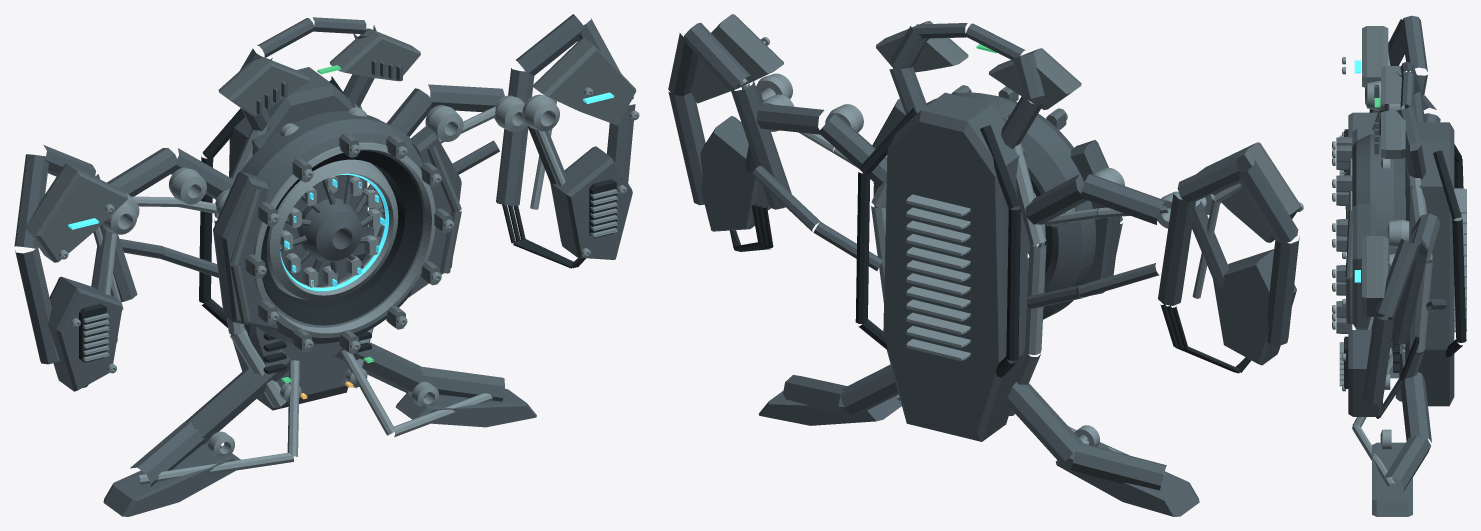
The model's file is cloud-infrastructure-guardian.glb.
3 views of the same model, side by side, from view 1: azimuth 30°, elevation 25°; view 2: azimuth 150°, elevation 25°; view 3: azimuth 270°, elevation 25° (orthographic). The views are drawn at different scales.
Visible parts, largest first — view 1: body_Gunmetal, right_sled_Gunmetal, left_sled_Gunmetal, body_Recess, left_support_Gunmetal, body_Brushed steel, core_Brushed steel, right_support_Gunmetal, top_armor_Ceramic graphite, left_sled_Ceramic graphite, right_sled_Ceramic graphite, left_housing_Gunmetal (+17 smaller); view 2: body_Gunmetal, left_sled_Gunmetal, right_sled_Gunmetal, body_Brushed steel, left_support_Gunmetal, body_Recess, top_armor_Gunmetal, right_support_Gunmetal, left_brace_Gunmetal, right_brace_Gunmetal, top_armor_Ceramic graphite, right_sled_Ceramic graphite (+8 smaller); view 3: body_Gunmetal, right_sled_Gunmetal, right_support_Gunmetal, body_Brushed steel, body_Recess, left_sled_Gunmetal, top_armor_Gunmetal, body_Ceramic graphite, top_armor_Ceramic graphite, right_sled_Ceramic graphite, right_housing_Gunmetal, left_sled_Ceramic graphite (+9 smaller).
Boxes of the visible parts, bbox=[...] form: body_Gunmetal: bbox=[224, 67, 424, 410]; right_sled_Gunmetal: bbox=[496, 14, 635, 259]; left_sled_Gunmetal: bbox=[14, 145, 137, 391]; body_Recess: bbox=[199, 76, 422, 374]; left_support_Gunmetal: bbox=[103, 349, 291, 516]; body_Brushed steel: bbox=[214, 103, 454, 408]; core_Brushed steel: bbox=[267, 159, 398, 301]; right_support_Gunmetal: bbox=[332, 341, 536, 427]; top_armor_Ceramic graphite: bbox=[218, 28, 420, 115]; left_sled_Ceramic graphite: bbox=[25, 163, 128, 262]; right_sled_Ceramic graphite: bbox=[533, 38, 636, 125]; left_housing_Gunmetal: bbox=[213, 171, 278, 330]; body_Gunmetal: bbox=[873, 92, 1095, 441]; left_sled_Gunmetal: bbox=[1158, 155, 1299, 365]; right_sled_Gunmetal: bbox=[668, 23, 791, 231]; body_Brushed steel: bbox=[871, 90, 1067, 415]; left_support_Gunmetal: bbox=[1007, 382, 1199, 516]; body_Recess: bbox=[855, 108, 1052, 377]; top_armor_Gunmetal: bbox=[889, 23, 1044, 149]; right_support_Gunmetal: bbox=[759, 364, 901, 425]; left_brace_Gunmetal: bbox=[1025, 174, 1166, 308]; right_brace_Gunmetal: bbox=[752, 103, 886, 270]; top_armor_Ceramic graphite: bbox=[876, 21, 1081, 109]; right_sled_Ceramic graphite: bbox=[690, 14, 783, 103]; body_Gunmetal: bbox=[1352, 122, 1454, 406]; right_sled_Gunmetal: bbox=[1348, 236, 1427, 416]; right_support_Gunmetal: bbox=[1372, 352, 1431, 516]; body_Brushed steel: bbox=[1332, 141, 1466, 401]; body_Recess: bbox=[1393, 144, 1466, 372]; left_sled_Gunmetal: bbox=[1348, 15, 1427, 142]; top_armor_Gunmetal: bbox=[1374, 61, 1426, 179]; body_Ceramic graphite: bbox=[1336, 137, 1352, 333]; top_armor_Ceramic graphite: bbox=[1381, 66, 1405, 158]; right_sled_Ceramic graphite: bbox=[1362, 236, 1388, 316]; right_housing_Gunmetal: bbox=[1352, 203, 1375, 327]; left_sled_Ceramic graphite: bbox=[1362, 26, 1388, 87].
Size of the model in its own units: 7.52 by 5.05 by 1.7.
